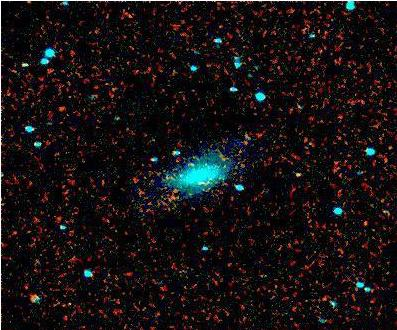star: (46, 93, 76, 123)
